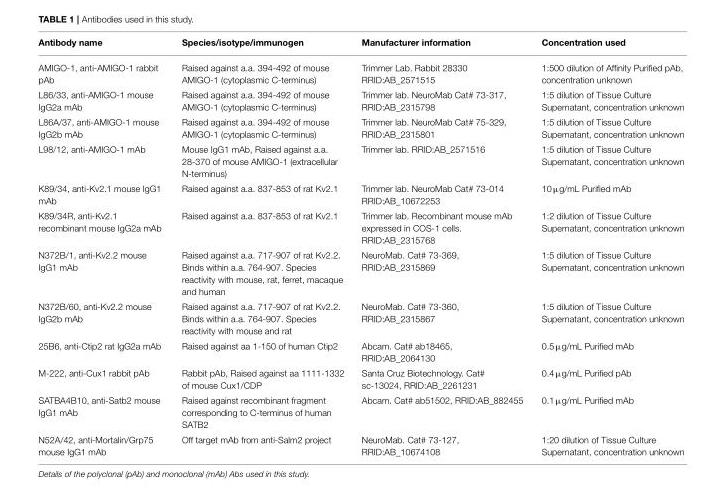table: (37, 37, 683, 456)
table column: (170, 37, 352, 456), (352, 37, 531, 456), (531, 37, 683, 456), (37, 37, 170, 456)
table column header: (37, 37, 683, 54)
table row: (37, 247, 683, 299), (37, 392, 683, 432), (37, 141, 683, 180), (37, 208, 683, 247), (37, 299, 683, 338), (37, 54, 683, 87), (37, 180, 683, 208), (37, 87, 683, 114), (37, 114, 683, 141), (37, 338, 683, 365), (37, 365, 683, 392), (37, 432, 683, 456), (37, 37, 683, 54)
